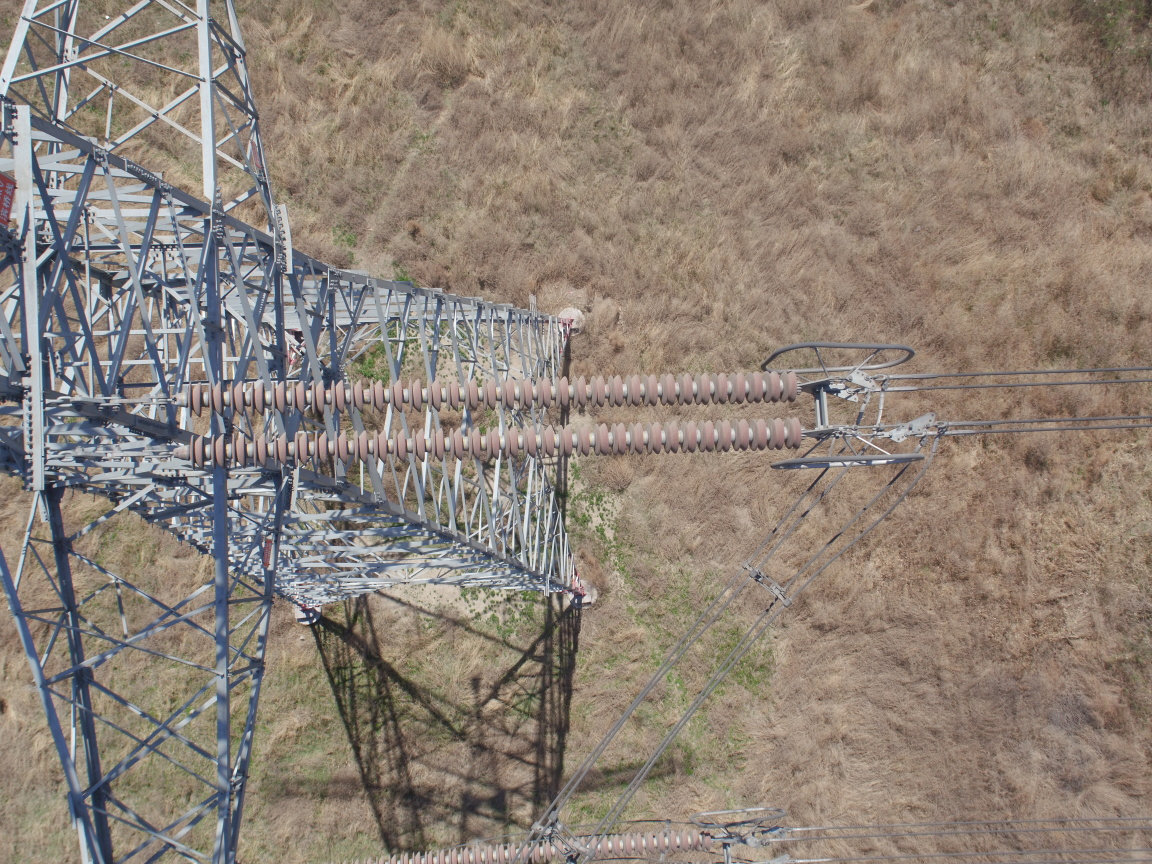insulator: (139, 367, 822, 466)
